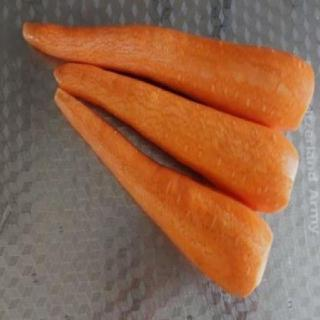carrot: (54, 88, 274, 306), (48, 57, 300, 216), (18, 17, 315, 133)
